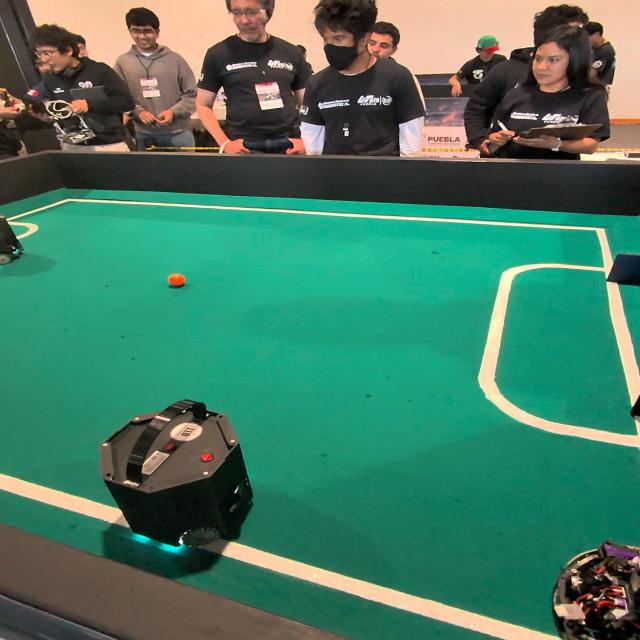Robot: (97, 392, 274, 575), (549, 526, 640, 638), (0, 198, 29, 275)
pelota: (163, 271, 192, 292)
